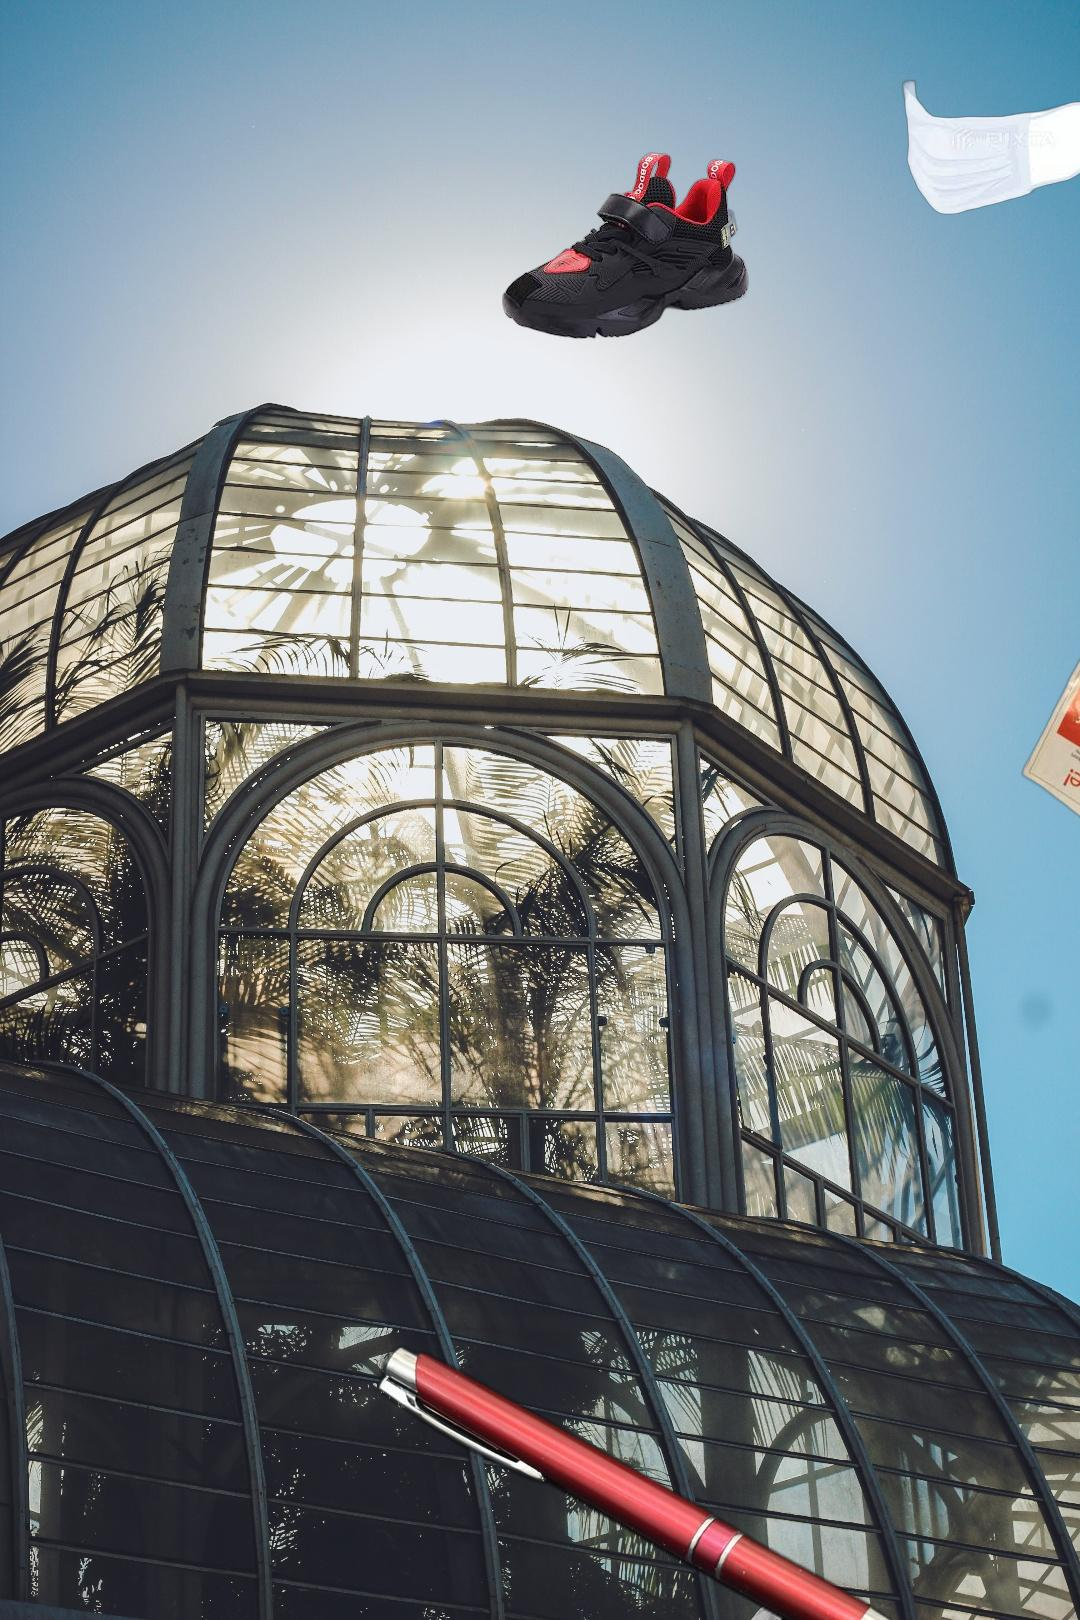paper: (1019, 539, 1080, 923)
penholder: (277, 1340, 980, 1620)
plastic-bag: (681, 1596, 862, 1620)
shoes: (500, 149, 751, 341)
trash: (900, 78, 1080, 217)
